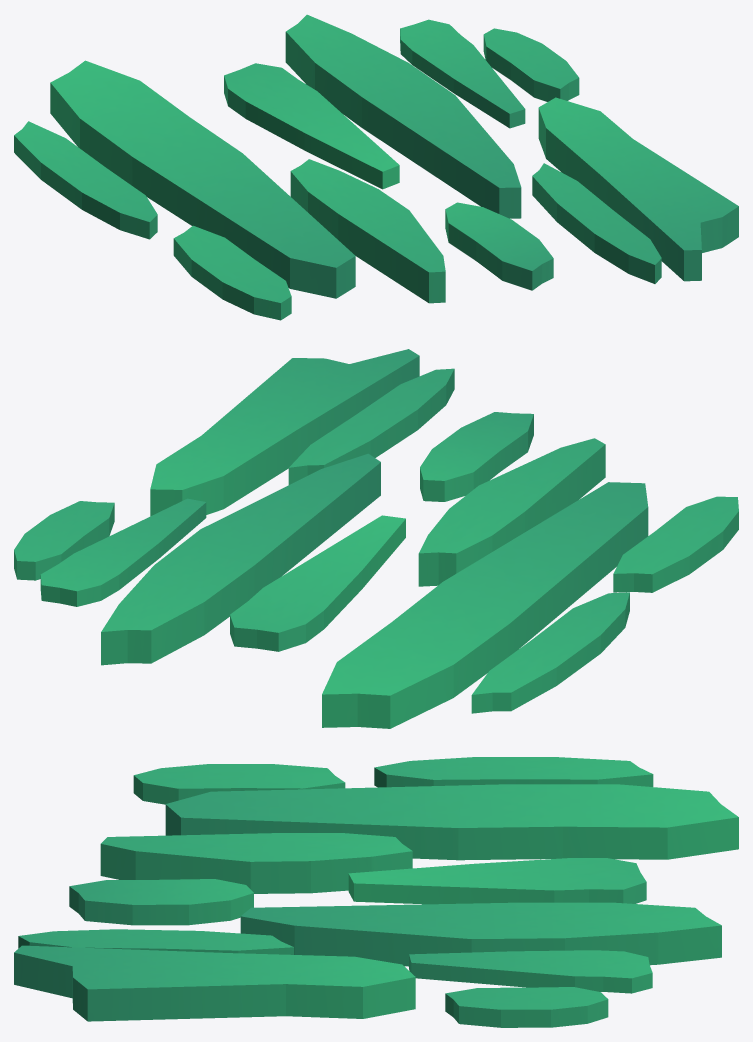
The model's file is SM_SnailTrail.fbx.
The picture shows the model from 3 angles, top to bottom: view 1: azimuth 30°, elevation 25°; view 2: azimuth 150°, elevation 25°; view 3: azimuth 270°, elevation 25°; orthographic projection. The views are drawn at different scales.
Parts seen in each view (by area): view 1: pCylinder34; view 2: pCylinder34; view 3: pCylinder34.
Part boxes in pixels (box(x1,y1,x2,y2)): pCylinder34: box(14, 14, 738, 320); pCylinder34: box(14, 349, 738, 728); pCylinder34: box(14, 757, 738, 1027).
Size of the model in its own units: 74.47 by 4.49 by 90.3.
